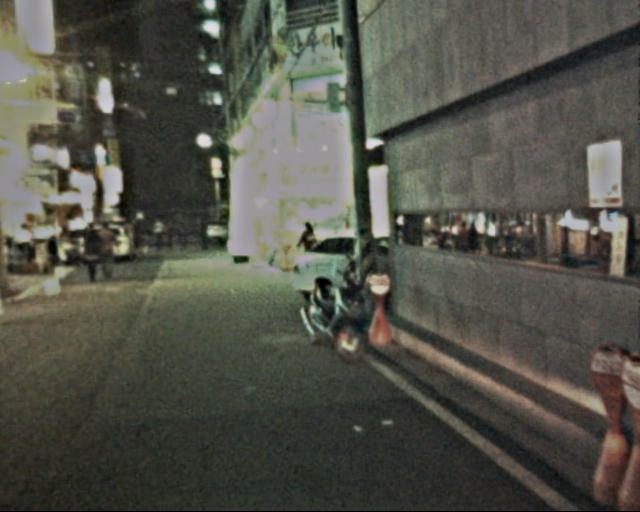person: (123, 213, 214, 253), (96, 220, 124, 282), (81, 220, 106, 281), (297, 222, 322, 278)
